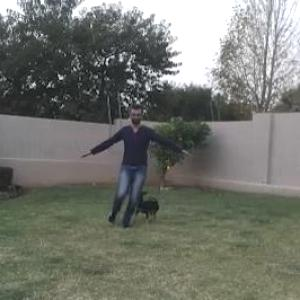land: (89, 109, 197, 236)
